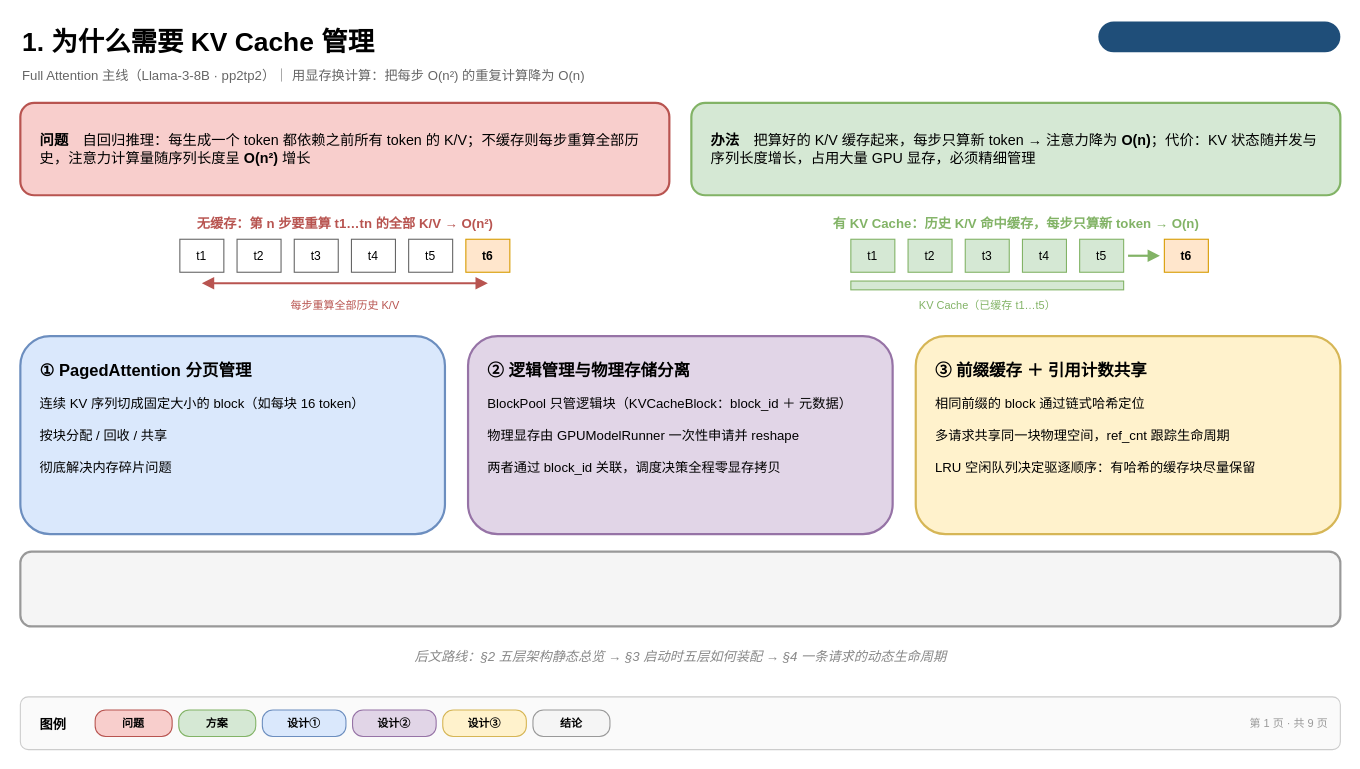
The diagram is 1360 pixels wide and 769 high, and some of its shapes have lost their labels. Here are the shapes that lost their labels. From the top down, the centre of each, then its label:
At (x=1219, y=36): "图表类型 · 系统示意图".
At (x=680, y=588): "核心：调度器全程只搬运 block_id（整数）；物理张量启动时一次成型，运行期所有分配 / 共享 / 驱逐只改引用计数与哈希表".
